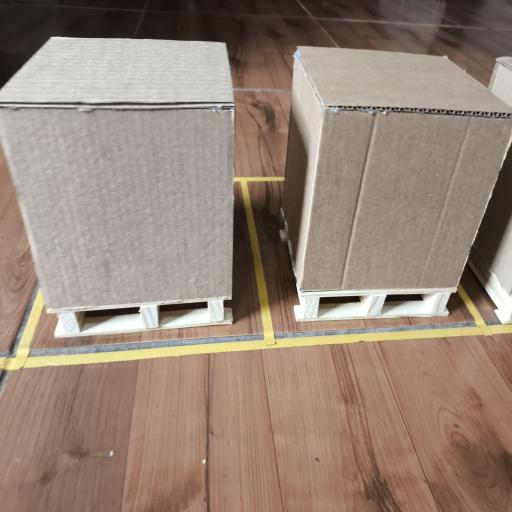pallet: (49, 300, 232, 337), (294, 287, 456, 321), (468, 248, 511, 324)
